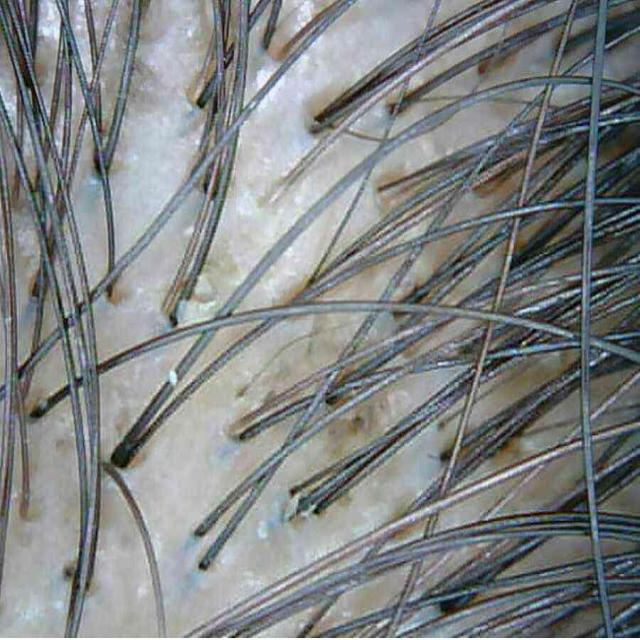d: (176, 291, 218, 325), (258, 76, 284, 112), (255, 68, 271, 89), (256, 521, 269, 541), (168, 370, 178, 388)
o: (39, 0, 60, 39), (0, 74, 16, 125)
